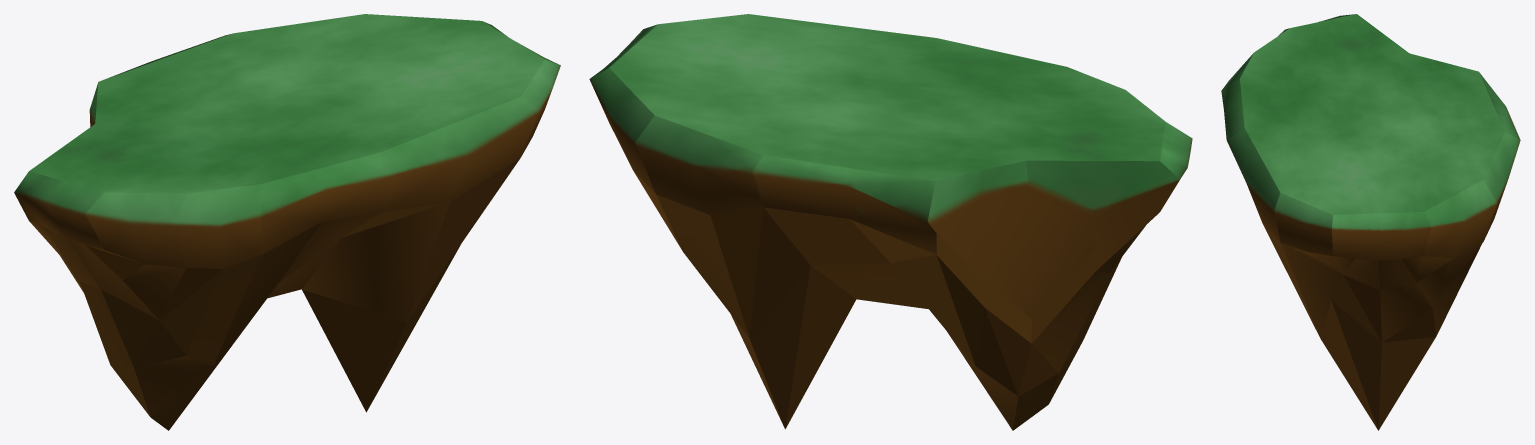
Rendered from SkyIsland.obj.
The picture shows the model from 3 angles, left to right: view 1: azimuth 30°, elevation 25°; view 2: azimuth 150°, elevation 25°; view 3: azimuth 270°, elevation 25°; orthographic projection. The views are drawn at different scales.
Visible parts, largest first — view 1: Set_of_Floating_Islands.002; view 2: Set_of_Floating_Islands.002; view 3: Set_of_Floating_Islands.002.
Part boxes in pixels (<box>): Set_of_Floating_Islands.002: <box>14,14,560,430</box>; Set_of_Floating_Islands.002: <box>589,14,1192,430</box>; Set_of_Floating_Islands.002: <box>1221,14,1520,430</box>.
Bounding box in the file's own units: 3.52 × 2.12 × 2.08.
1 material, 1 textured.
